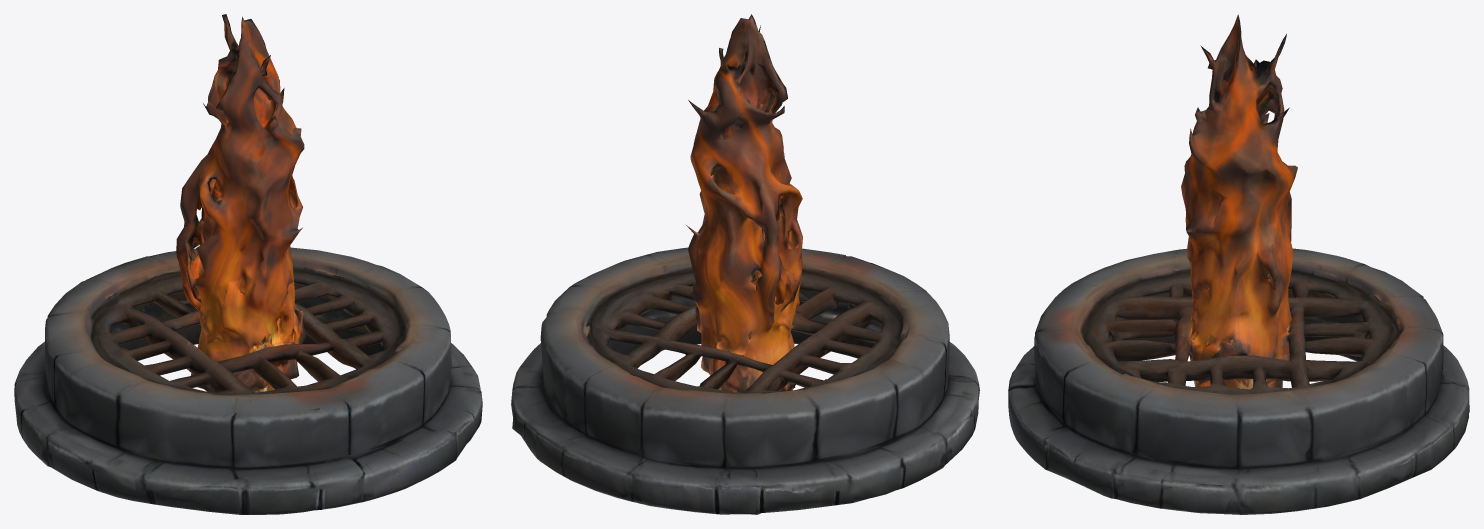
File: fire_vent.glb
3 views of the same model, side by side, from view 1: azimuth 30°, elevation 25°; view 2: azimuth 150°, elevation 25°; view 3: azimuth 270°, elevation 25° (orthographic).
Bounding box in the file's own units: 2 × 1.93 × 2.
1 material, 1 textured.
